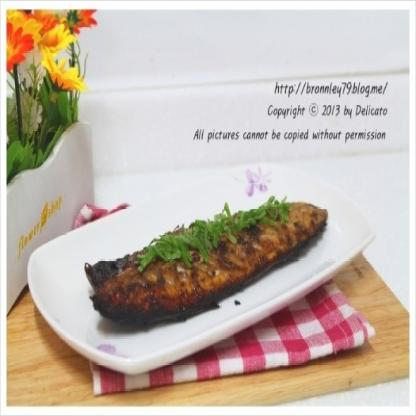Peixe: (75, 186, 331, 358)
